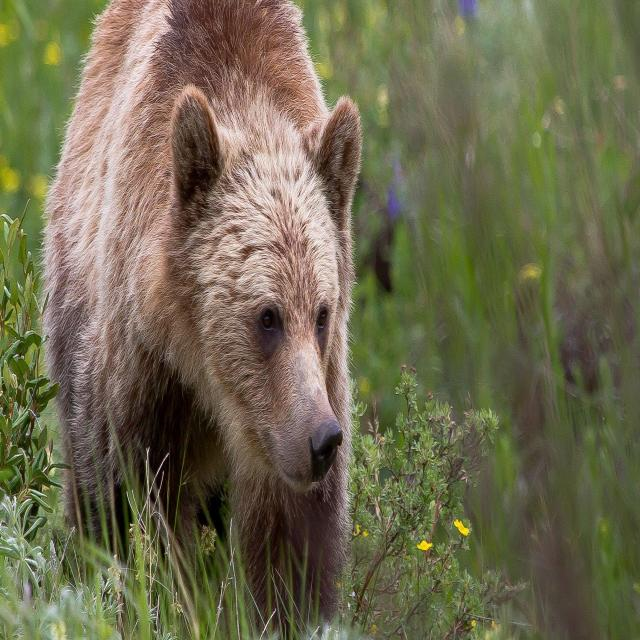Bear: (41, 0, 365, 640)
